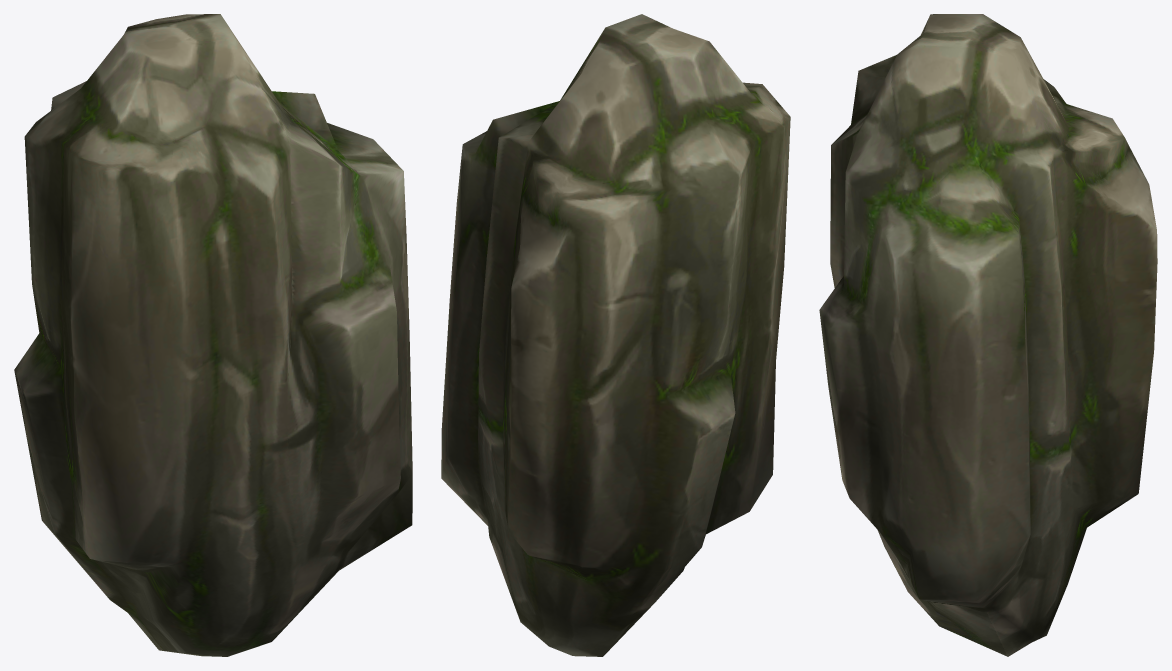
File: RockFormation_4_2 (49).fbx
3 renders of one model, left to right at view 1: azimuth 30°, elevation 25°; view 2: azimuth 150°, elevation 25°; view 3: azimuth 270°, elevation 25°, orthographic. The views are drawn at different scales.
Visible parts, largest first — view 1: RockFormation_4_2 (49); view 2: RockFormation_4_2 (49); view 3: RockFormation_4_2 (49).
Boxes of the visible parts, left/top/right/bottom form: RockFormation_4_2 (49): left=14, top=14, right=412, bottom=656; RockFormation_4_2 (49): left=441, top=14, right=790, bottom=656; RockFormation_4_2 (49): left=819, top=14, right=1157, bottom=656.
Size of the model in its own units: 105 by 193 by 99.1.
